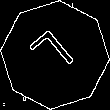L_SE: (27, 25, 83, 85)
